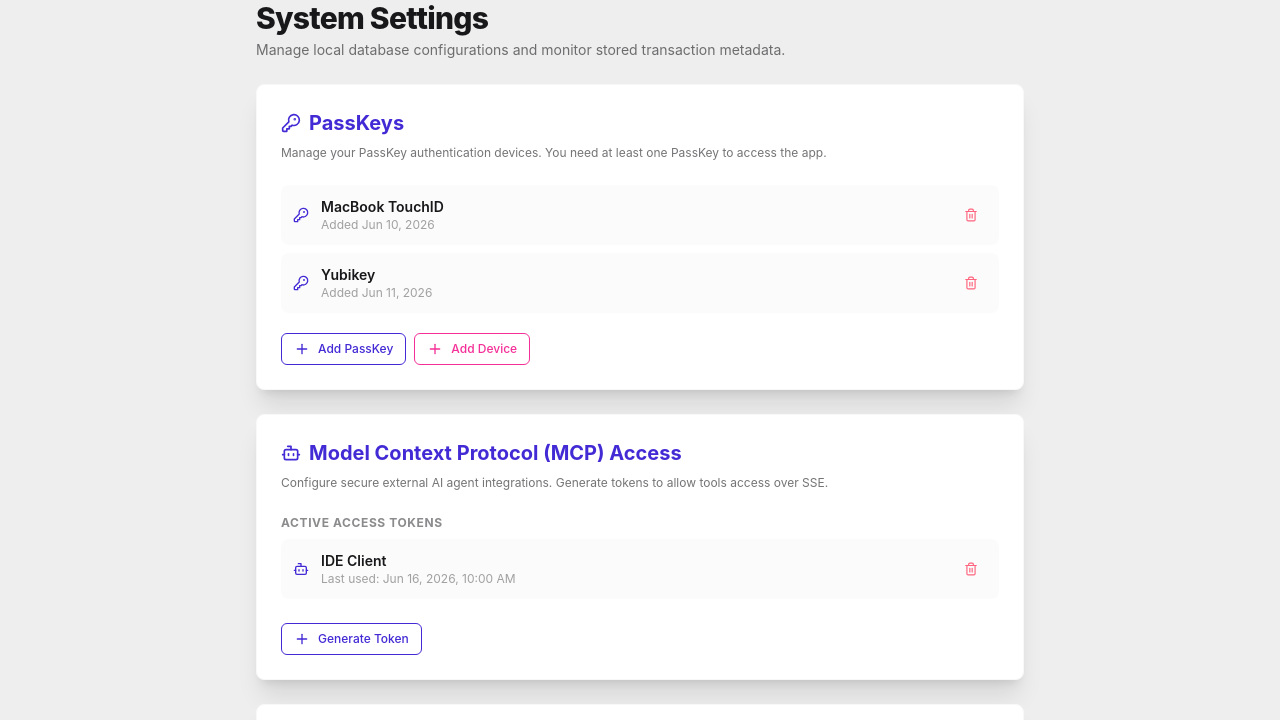
PassKeySection API & interactive behaviors › prompts deletion warning and revokes passkey on confirmation
The image size is (1280, 720).
Note: Revoke pk-2
Click the button named "Remove PassKey - Yubikey".
click(971, 283)  # box [955, 271, 987, 295]
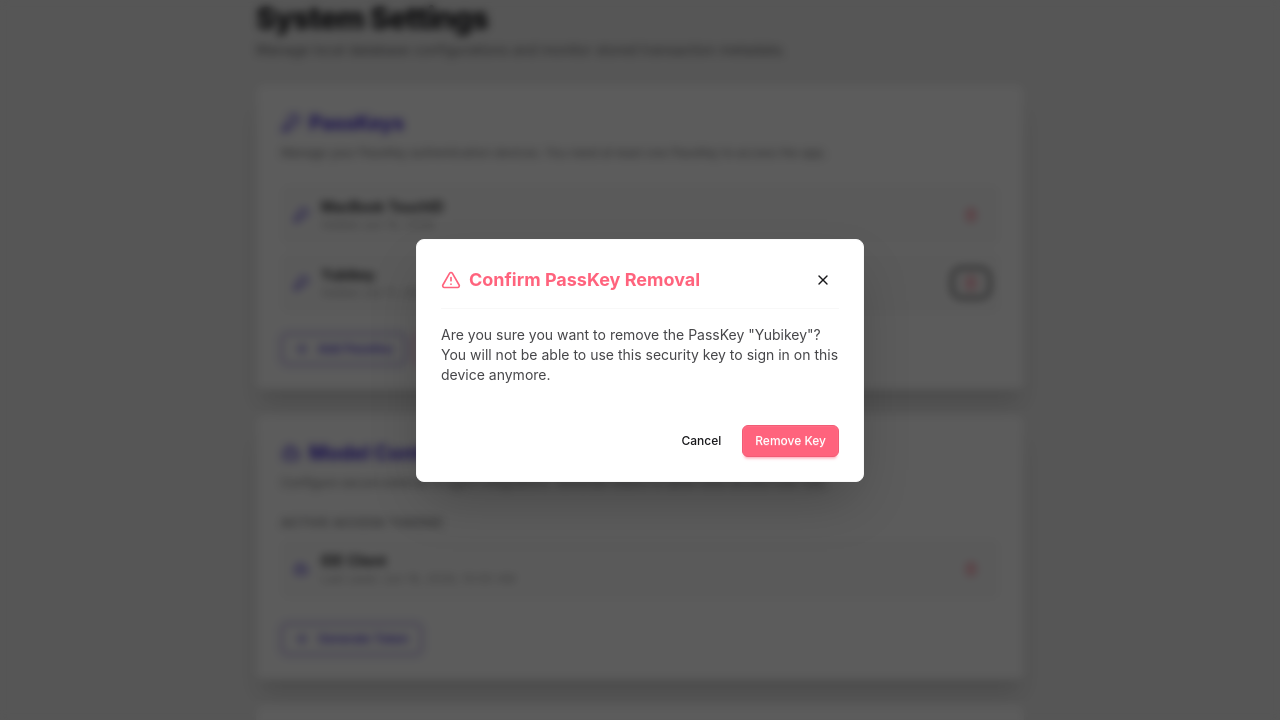
Expected: the heading "Confirm PassKey Removal" is shown, [441, 266, 700, 294]
Note: Confirm deletion
Click the button "Remove Key".
click(791, 440)  # box [742, 424, 839, 456]
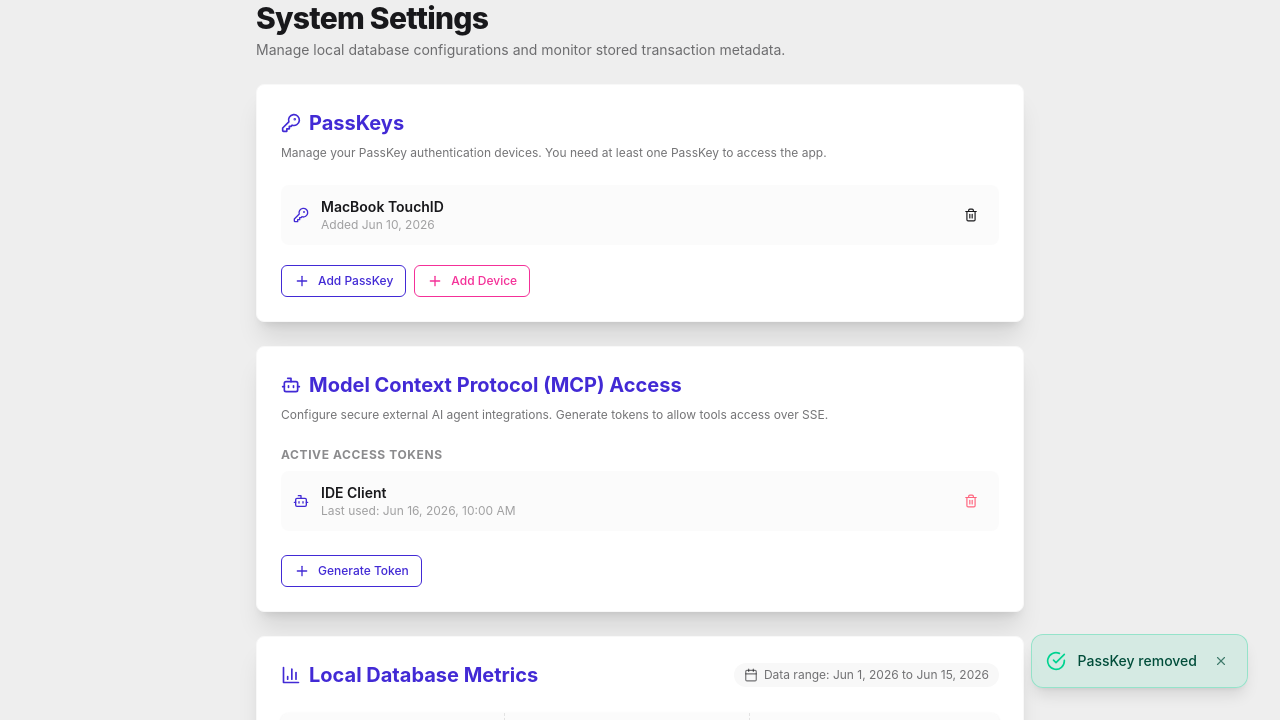
Expected: the text "PassKey removed" is shown, [1078, 651, 1197, 671]
